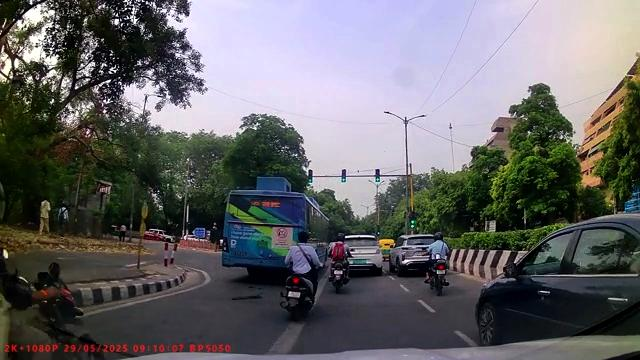motorcycle_with_helmet: (423, 231, 450, 296), (327, 232, 351, 295)
motorcycle_without_helmet: (279, 230, 322, 321)
